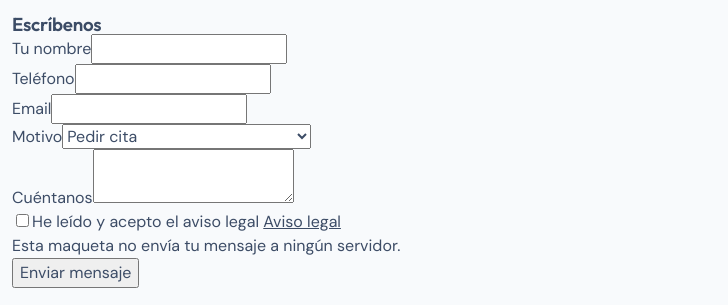
Test: @s7 la confirmación declara que nada se ha enviado y ofrece los canales reales › rol de estado, texto de no-envío, los 2 enlaces de teléfono reales y el botón de reinicio
Type "Ana Martín" into the field labelled "Tu nombre" at coordinates (189, 49), box [91,34,287,64]
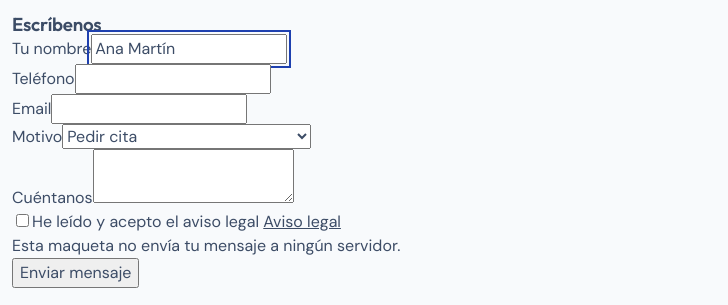
Type "600000000" into the field labelled "Teléfono" at coordinates (173, 79), box [75,64,271,94]
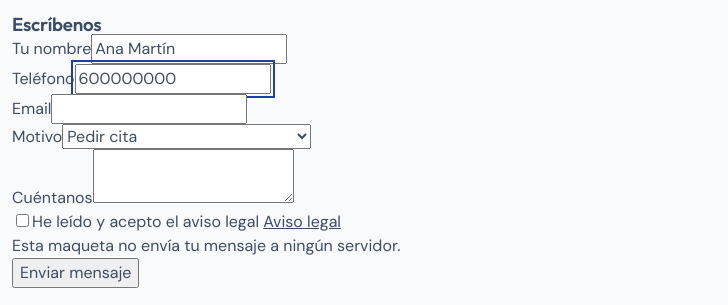
Type "ana@correo.es" into the field labelled "Email" at coordinates (149, 109), box [51,94,247,124]
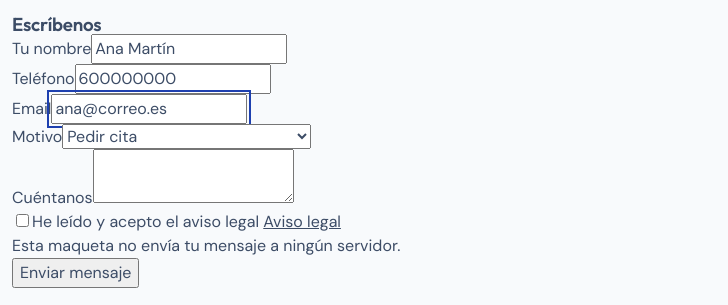
Click the checkbox at coordinates (22, 221), box [16,214,29,227]
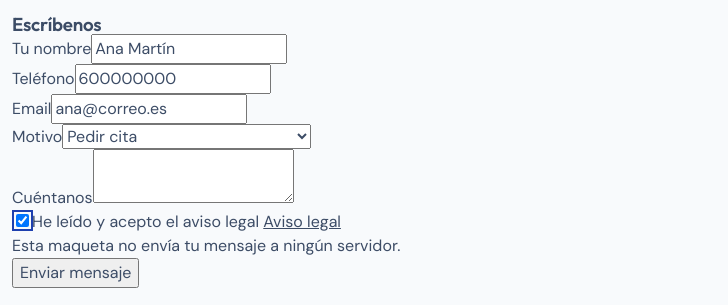
Click the button "Enviar mensaje" at coordinates (76, 273), box [12,258,140,288]
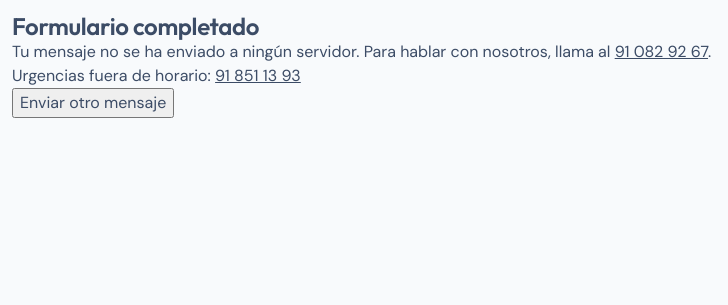
Result: the element that starts with "Formulario completado" shows "Tu mensaje no se ha enviado a ningún servidor" at [12,41,610,62]
Result: the element that starts with "Formulario completado" shows "Urgencias fuera de horario" at [12,65,208,86]
Result: the button "Enviar otro mensaje" is shown at [12,88,174,118]
